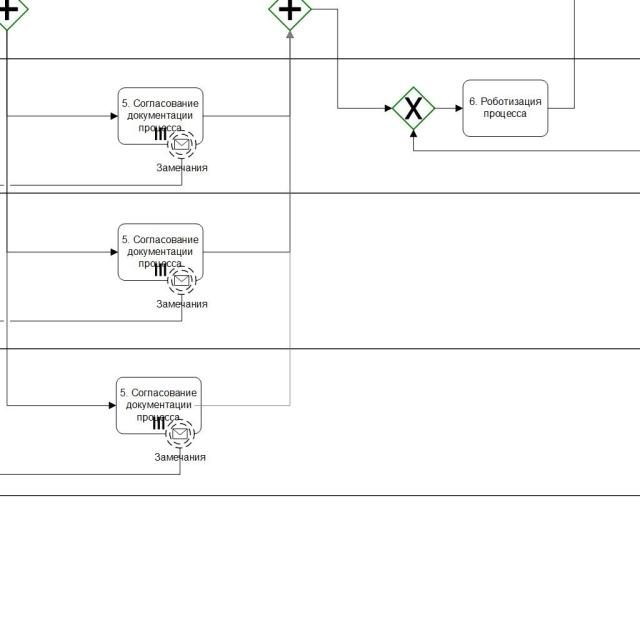arrow: (4, 30, 116, 411), (202, 30, 296, 407), (5, 30, 118, 257), (204, 30, 296, 254), (4, 30, 118, 121), (312, 6, 393, 113), (204, 31, 295, 118), (435, 102, 463, 114)
diamond: (392, 86, 435, 131)
rectangle: (118, 86, 204, 145), (116, 376, 202, 435), (117, 223, 204, 281)
